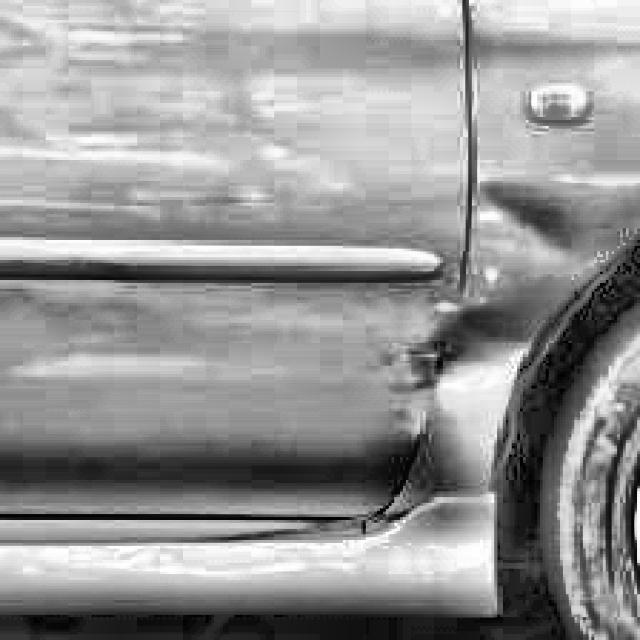door_dent: (399, 312, 528, 448)
